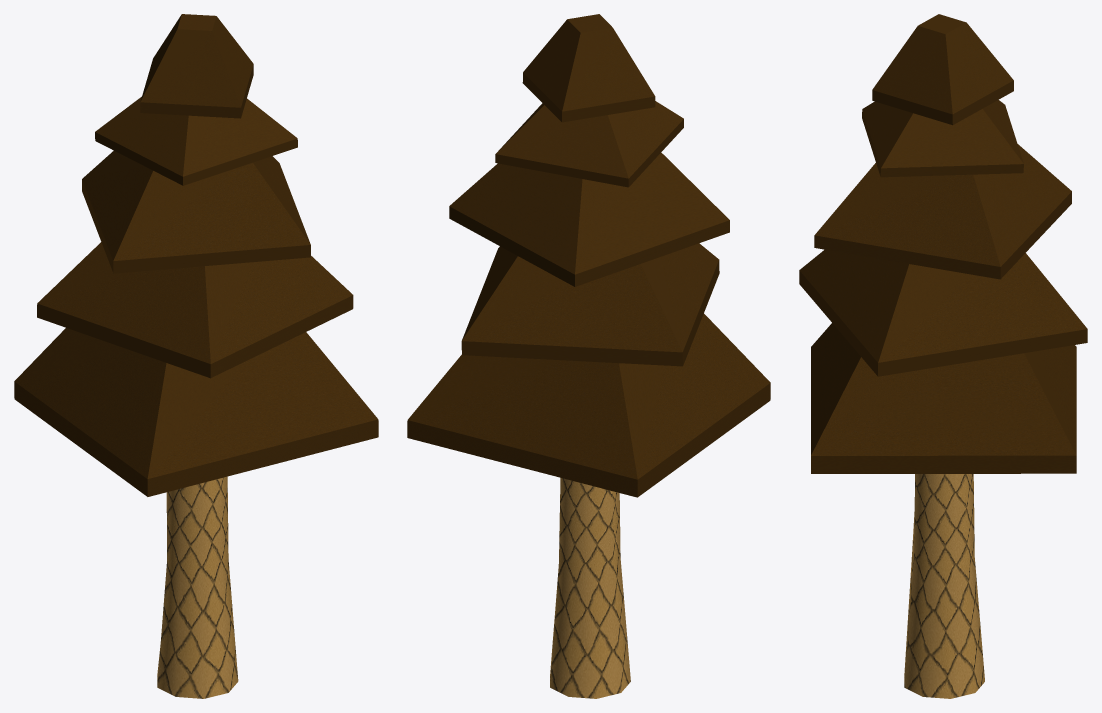
File: hillTree1.obj
3 views of the same model, side by side, from view 1: azimuth 30°, elevation 25°; view 2: azimuth 150°, elevation 25°; view 3: azimuth 270°, elevation 25° (orthographic).
Visible parts, largest first — view 1: Cube.004, wood_Cylinder; view 2: Cube.004, wood_Cylinder; view 3: Cube.004, wood_Cylinder.
Boxes of the visible parts, x1,y1,x2,y2 form: Cube.004: (14, 14, 378, 496); wood_Cylinder: (157, 476, 238, 698); Cube.004: (407, 14, 770, 497); wood_Cylinder: (550, 477, 630, 698); Cube.004: (799, 14, 1087, 473); wood_Cylinder: (904, 474, 984, 698).
Bounding box in the file's own units: 1.21 × 3.03 × 1.21.
Materials: 2 (2 with a texture image).
